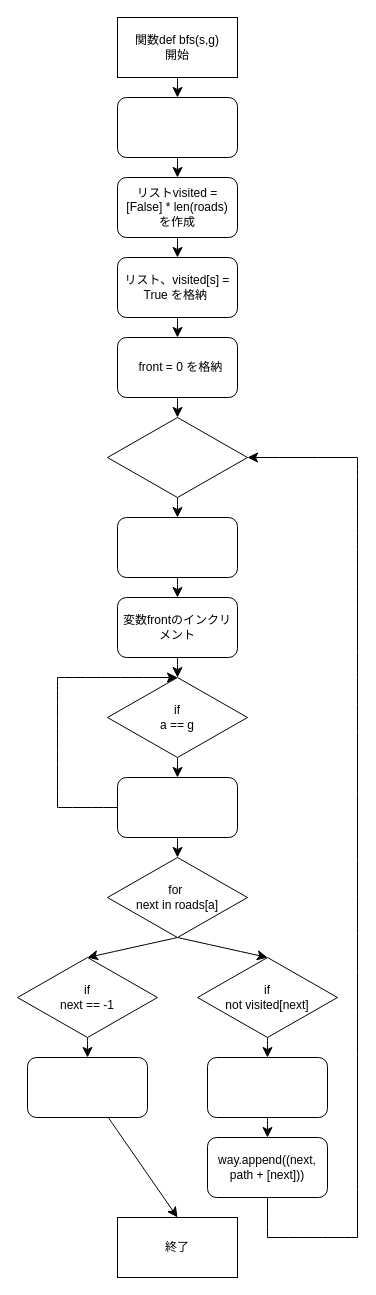
Image size: 376x1295. Some labels were removed from this diagram. Each missing label, with the centre of its shape:
"a, path = way[front] を格納" belongs at point 177,547.
"break" belongs at point 87,1087.
"pathに値を返す" belongs at point 177,807.
"visited[next] = True" belongs at point 267,1087.
"while front < len(way)" belongs at point 177,457.
"リストにway = [(s, [s])]を格納" belongs at point 177,127.
